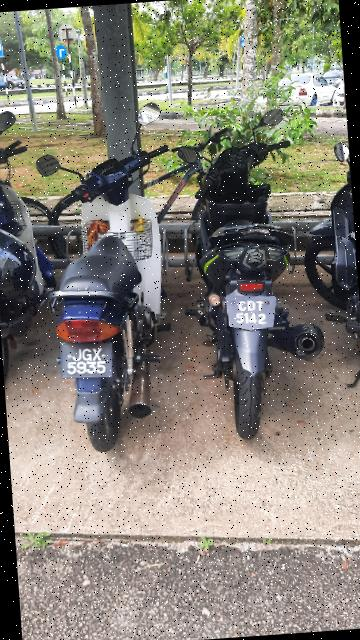License_Plate: (55, 343, 120, 385), (220, 291, 281, 335)
motorcycle: (24, 137, 193, 460), (177, 117, 339, 448)
